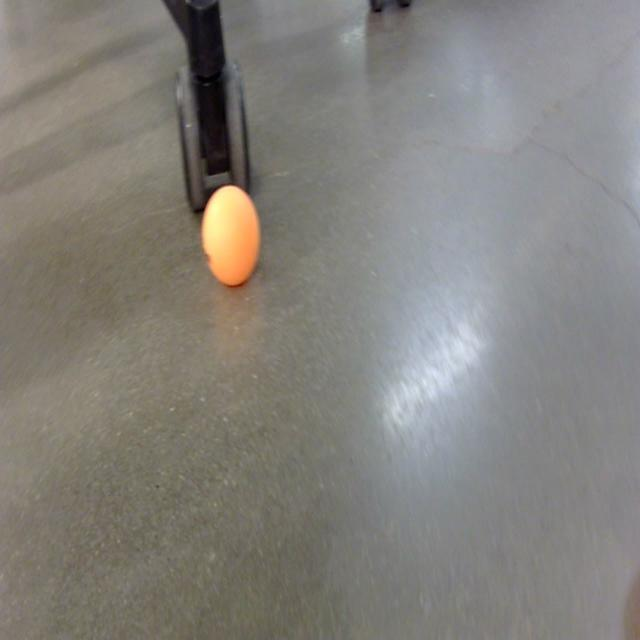ball: (200, 182, 261, 288)
